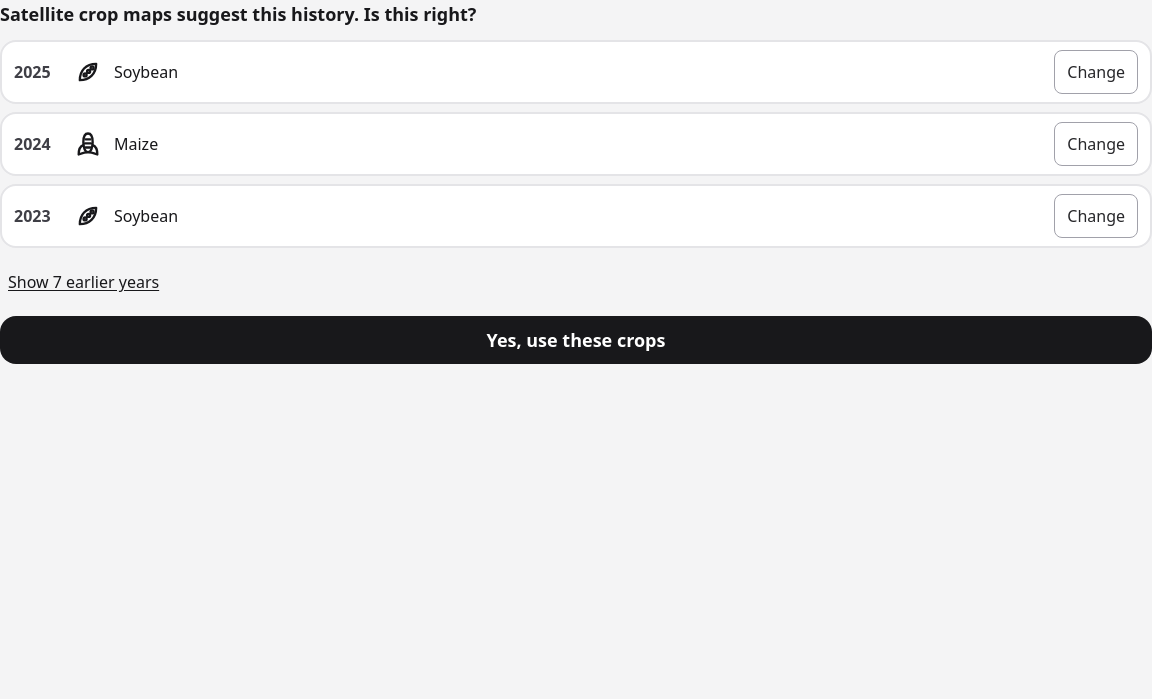
Test: CropsStep review follow-ups (#76) › shows the three newest proposed years first and the rest behind "Show earlier years"
Expected: the number of list items is 3, [0,40,1151,104]; [0,112,1151,176]; [0,184,1151,248]
Expected: the text "2023" is shown, [14,205,51,227]
Click the button "Show 7 earlier years".
click(84, 282)  # box [0,260,167,304]
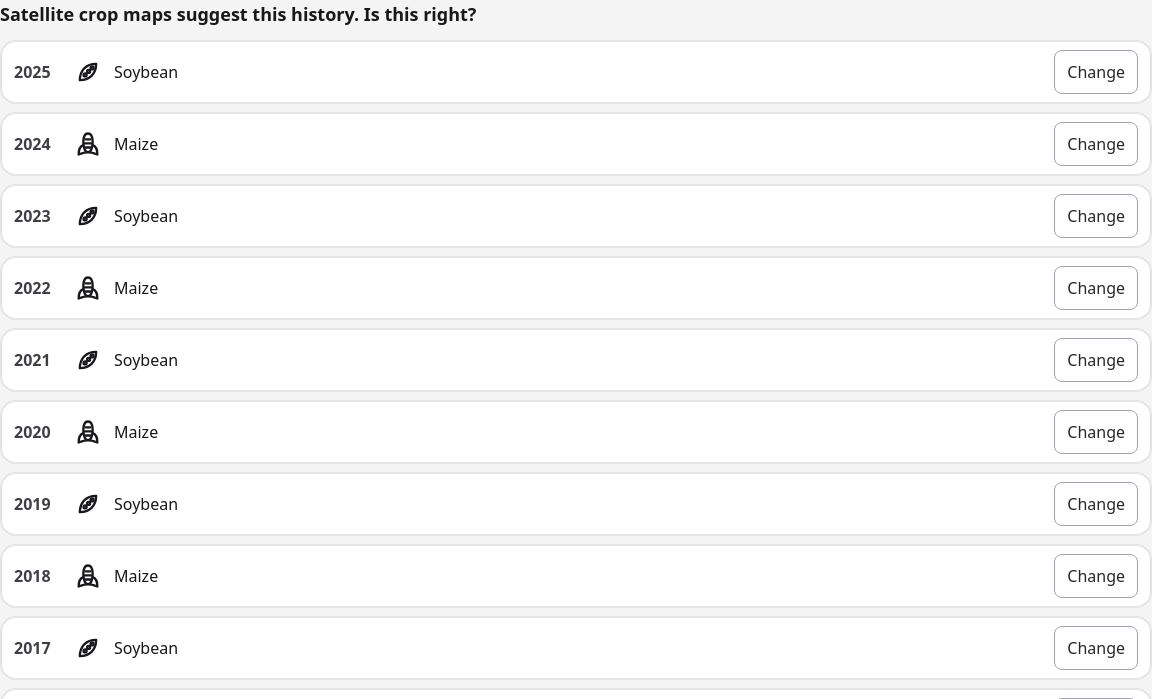
Expected: the number of list items is 10
